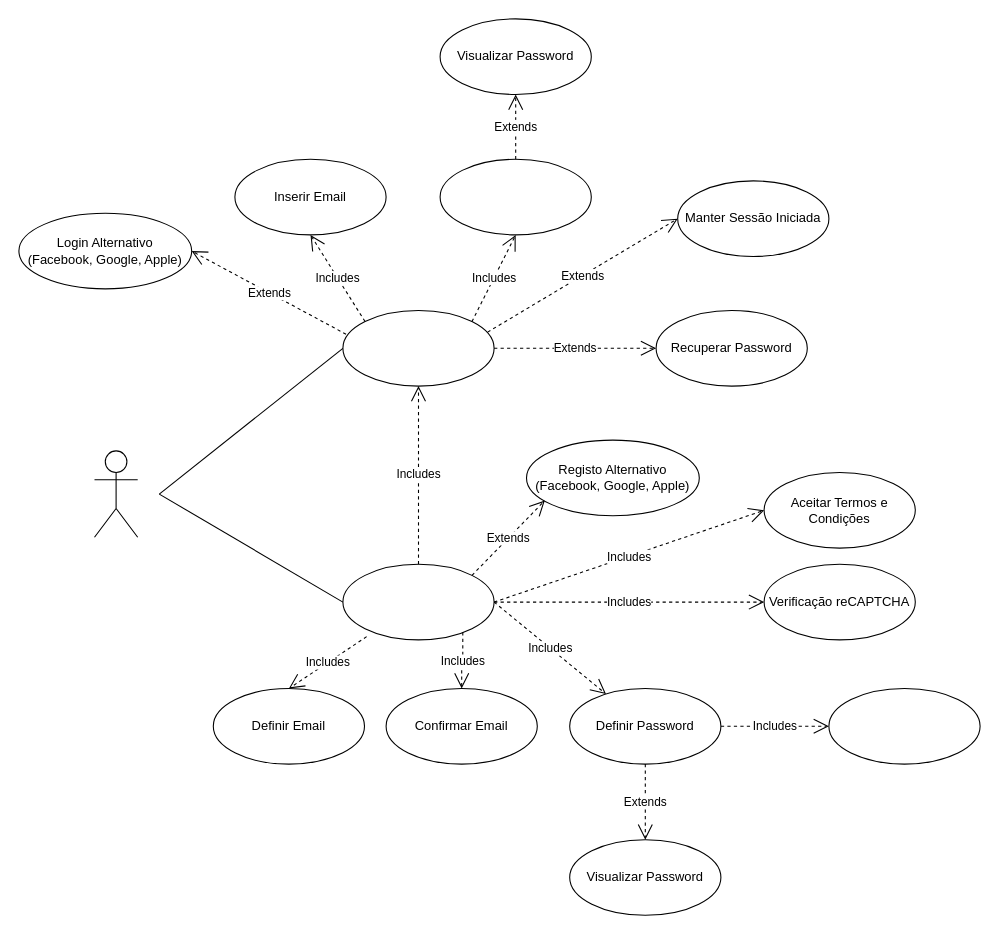
This 999x934 diagram has some shape labels left out. The shapes that lost their labels are listed below. From the top down, each one's centre as x and y in pixels, then its label:
the point at 515,196: Inserir Password
the point at 418,347: Login
the point at 115,493: Actor
the point at 418,601: Registo
the point at 904,725: Requisitos Password
